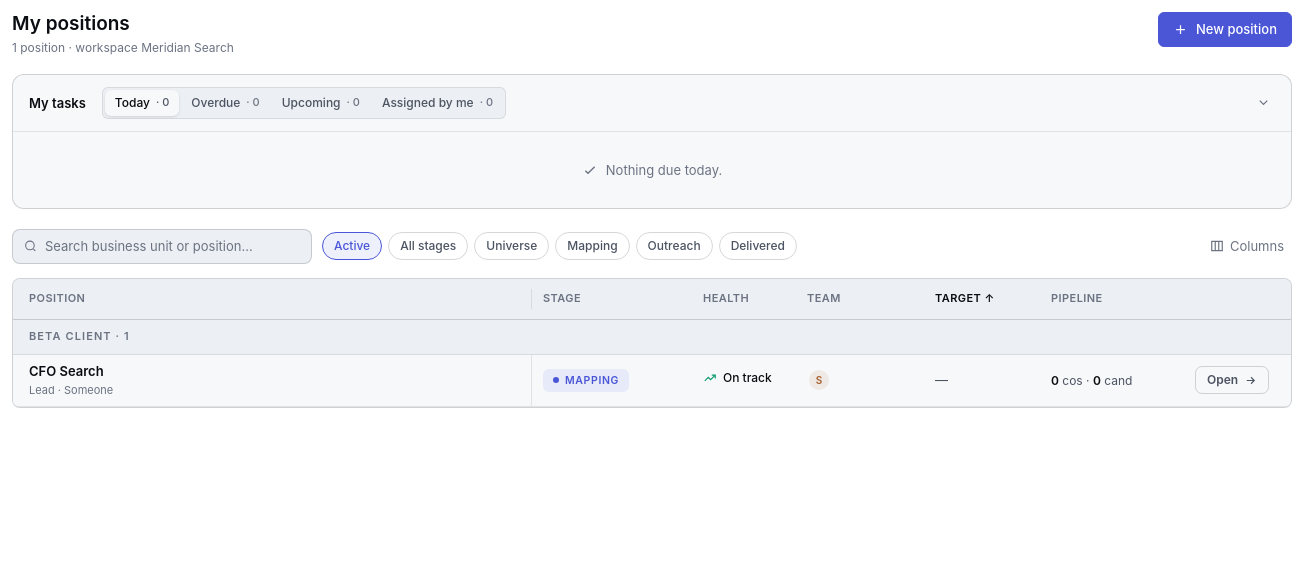
it: ProjectsPage — first use, no results, and a client with nothing shared › says no match only under a search, and Clear filters brings the list back
Click the button "Delivered". click: (758,246)
box: [719,232,797,260]
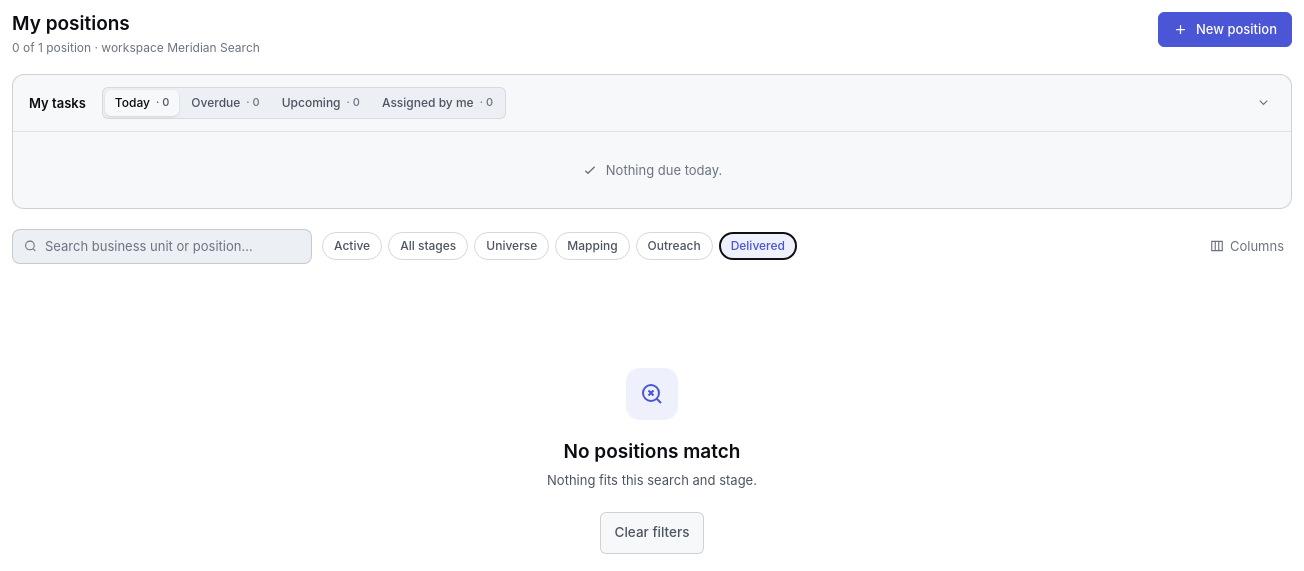
Expected: the heading "No positions match" is shown, [564,438,740,465]
Expected: the text "0 of 1 position · workspace Meridian Search" is shown, [12,40,260,56]
Type "nothing like it" into the field with placeholder "Search business unit or position…". click: (172,246)
box: [45,237,300,256]
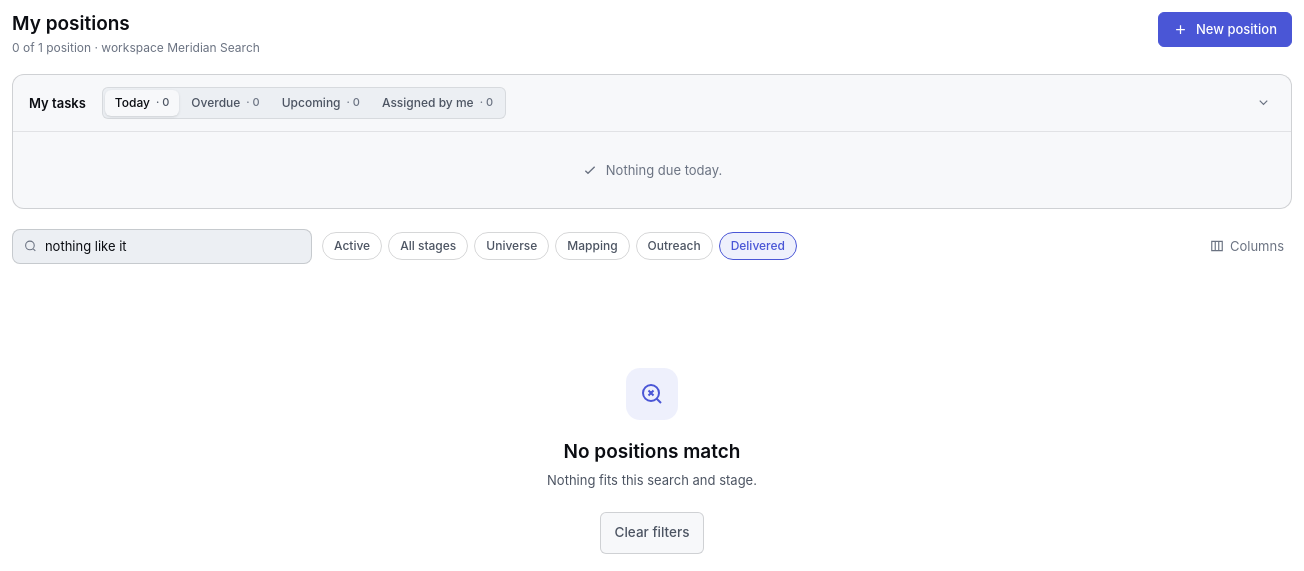
Click the button "Clear filters". click: (652,533)
box: [600,512,704,554]
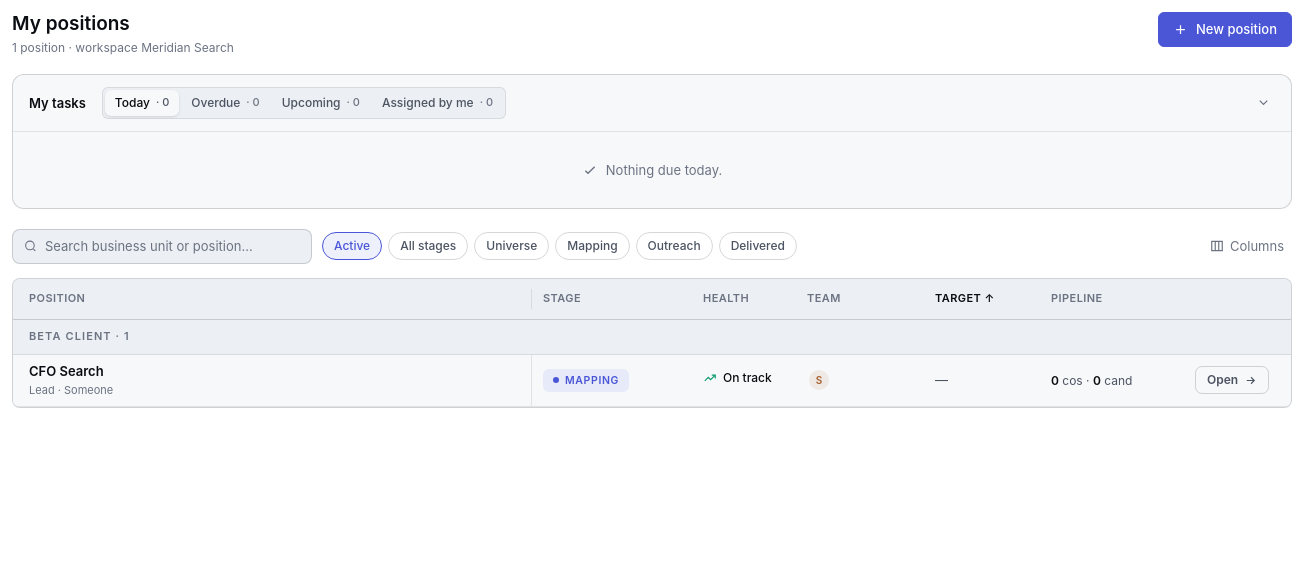
Expected: the field with placeholder "Search business unit or position…" is empty, [45,237,300,256]
Expected: the text "1 position · workspace Meridian Search" is shown, [12,40,234,56]
